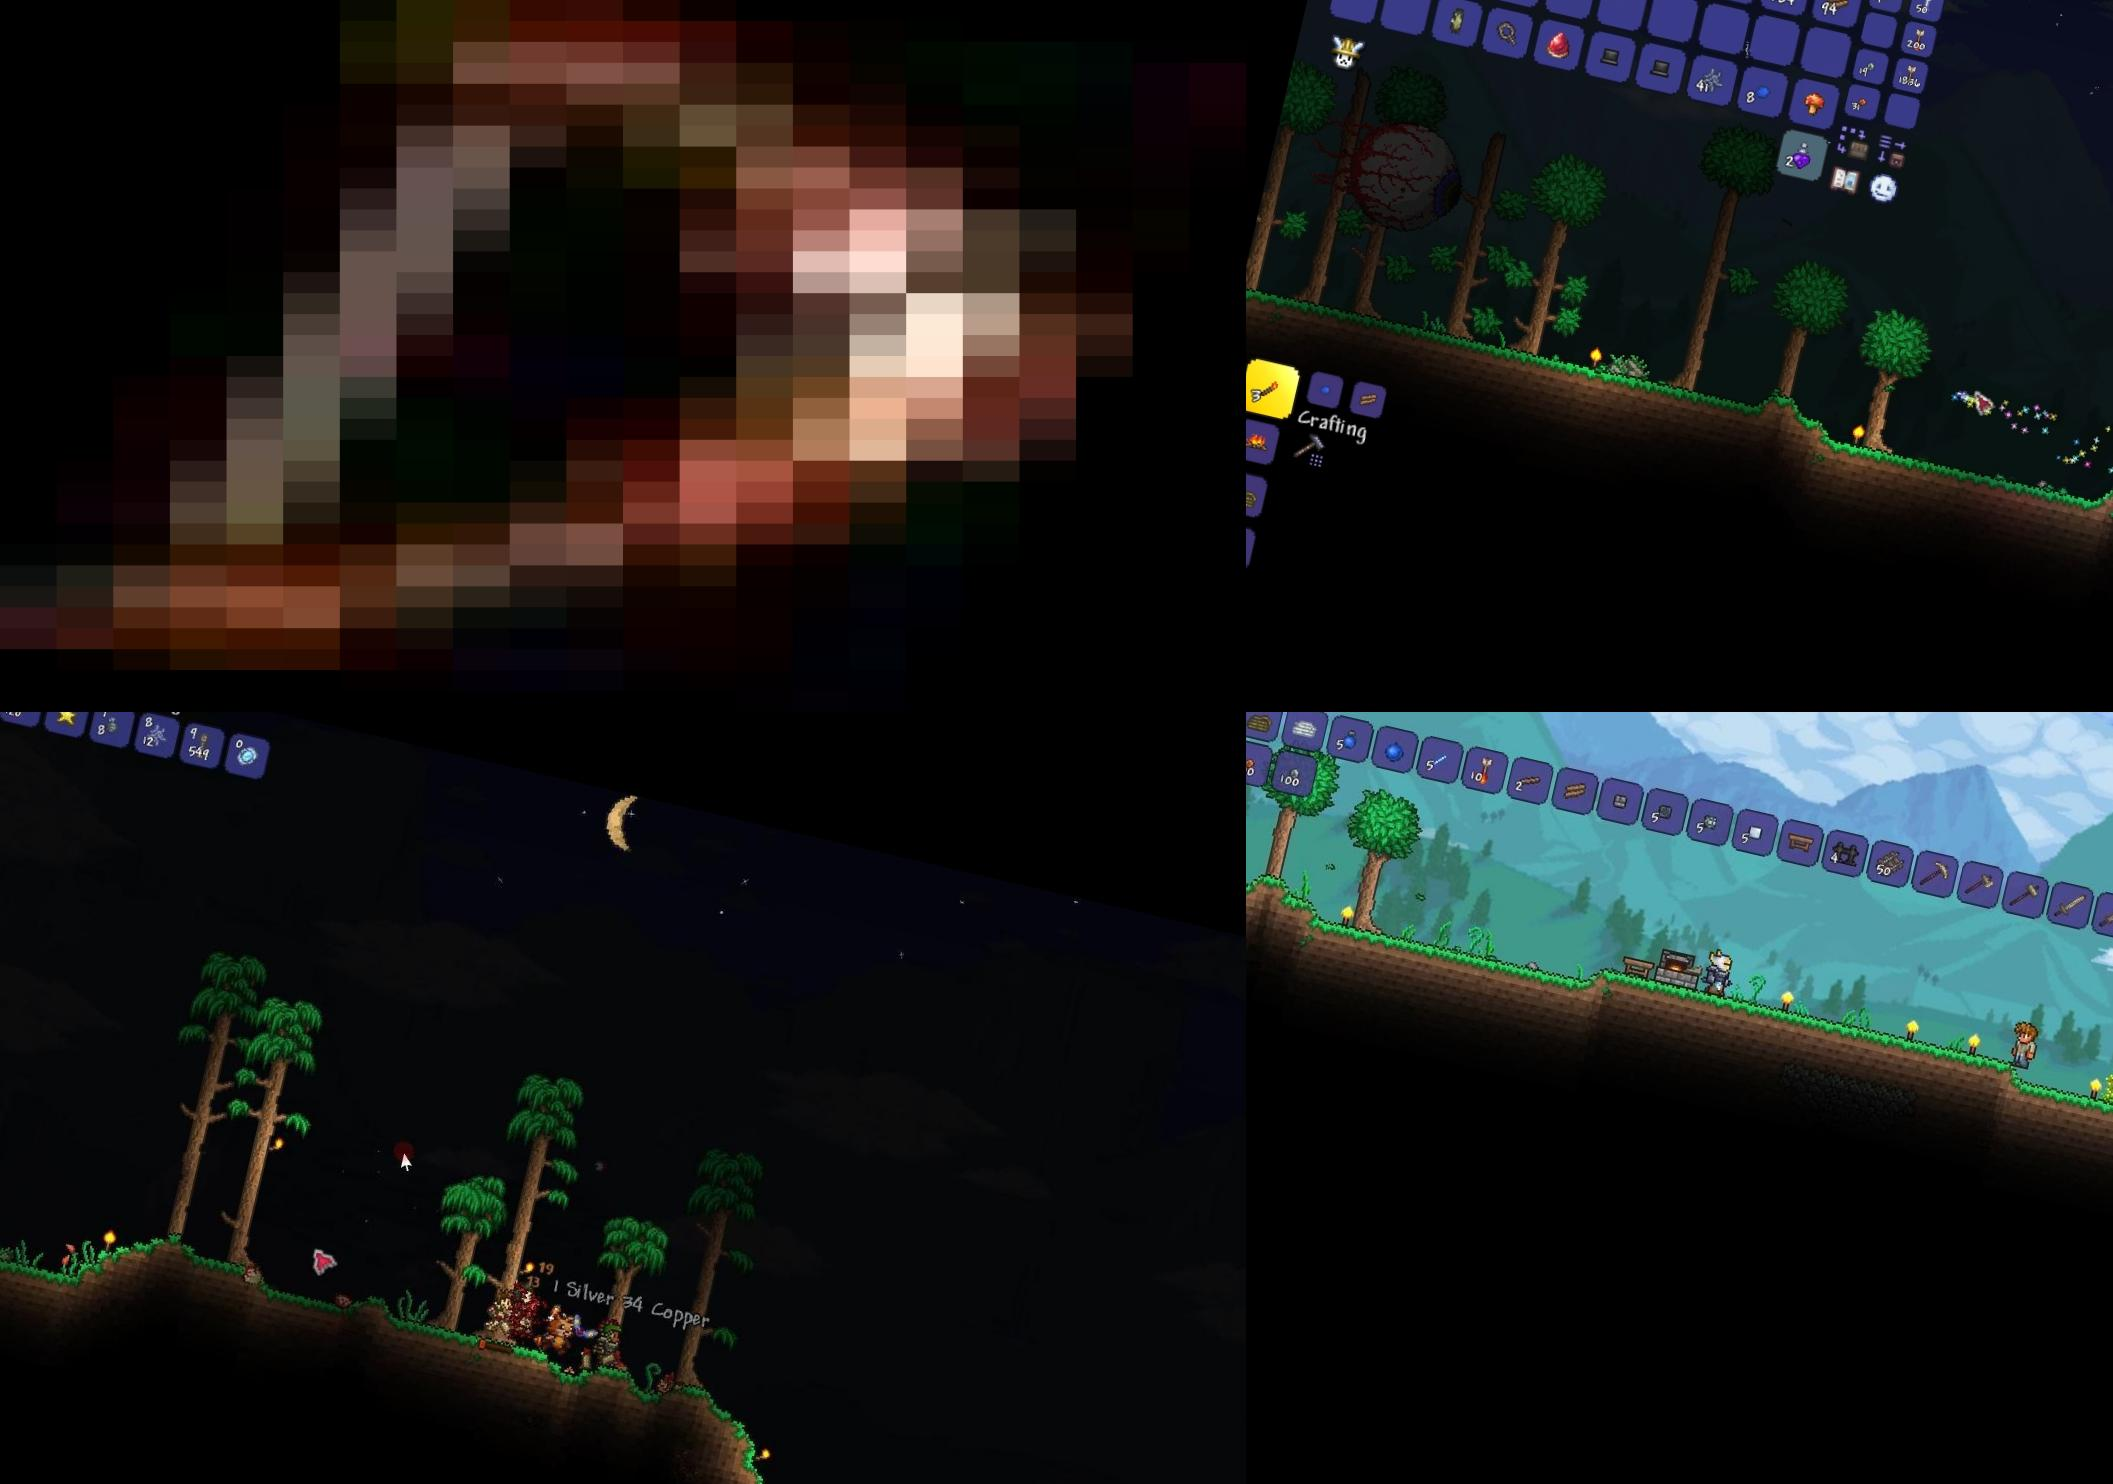bow: (0, 0, 1246, 711)
eyeC: (1305, 106, 1469, 252)
torchT: (255, 1118, 295, 1161)
